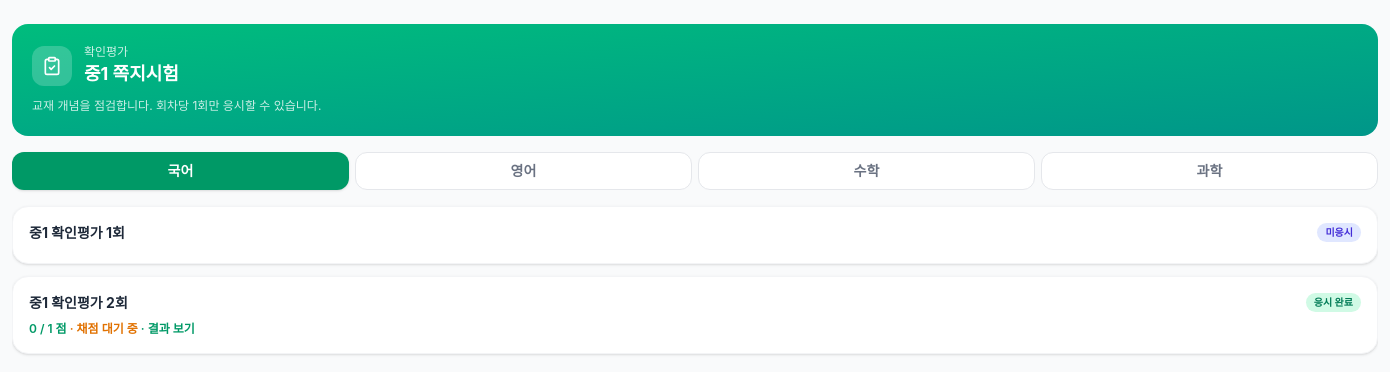
Scenario: QuizTab 채점 대기 표시 › 목록과 결과 화면에 채점 대기 상태를 보여준다
This screenshot has width=1390, height=372.
Expected: the text "· 채점 대기 중" is shown, [67,320,138,336]
Click the text "중1 확인평가 2회". click: (78, 302)
box: [29,292,128,312]
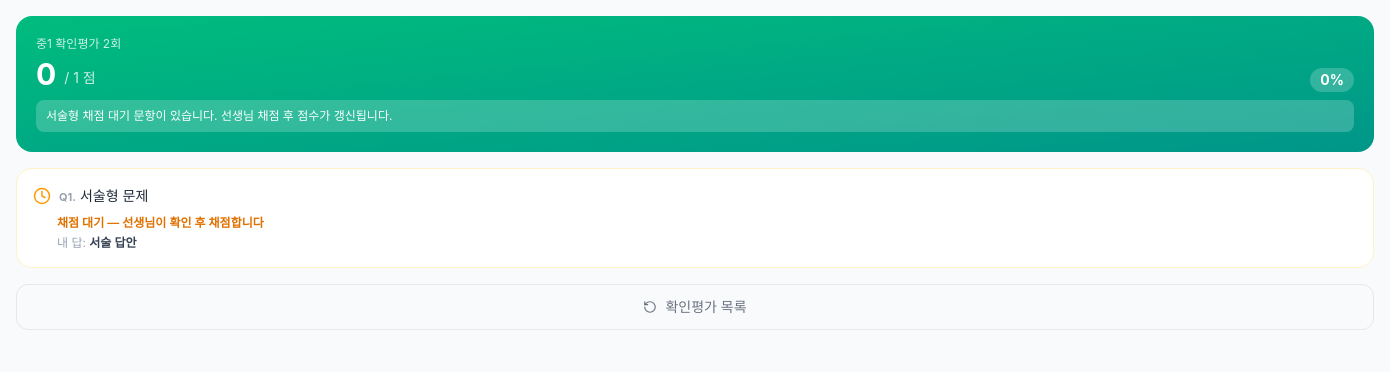
Expected: the text "서술형 채점 대기 문항이 있습니다. 선생님 채점 후 점수가 갱신됩니다." is shown, [36,100,1354,132]
Expected: the text "채점 대기 — 선생님이 확인 후 채점합니다" is shown, [57,215,264,230]
